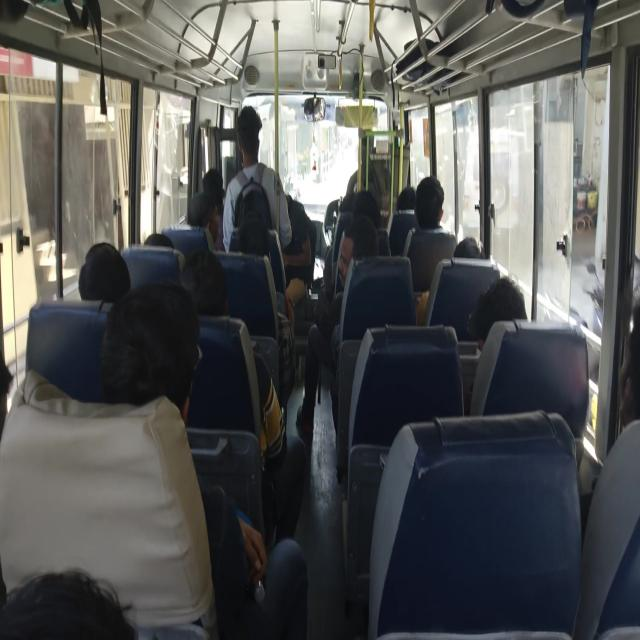person: (0, 527, 155, 640), (106, 314, 203, 419), (588, 298, 640, 422), (469, 288, 539, 362), (174, 254, 219, 323), (0, 325, 25, 448), (417, 174, 456, 239), (341, 232, 377, 295), (271, 187, 308, 244), (237, 110, 268, 178), (80, 243, 124, 290), (240, 214, 280, 260), (349, 191, 389, 230), (150, 220, 184, 260), (187, 195, 224, 230), (458, 233, 490, 270), (342, 184, 369, 214), (400, 188, 426, 218), (202, 165, 228, 193)
